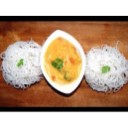idiyappam: (85, 46, 128, 89), (3, 40, 41, 85)
